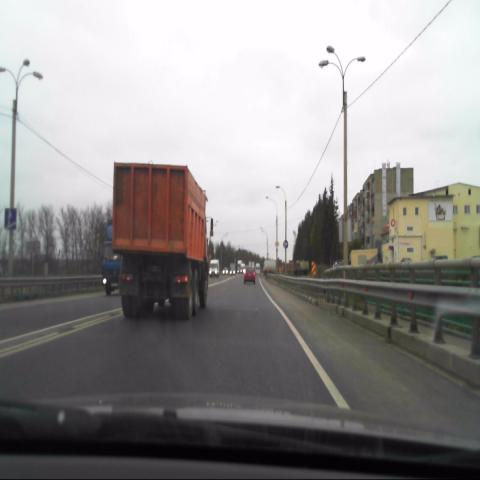6_6: (4, 206, 18, 232)
